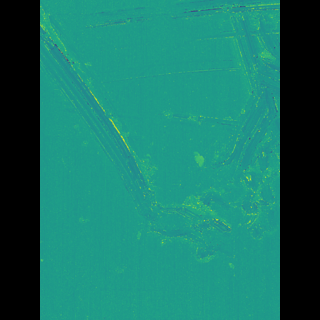Loch: (70, 0, 217, 274), (194, 0, 251, 262), (101, 0, 249, 34)
